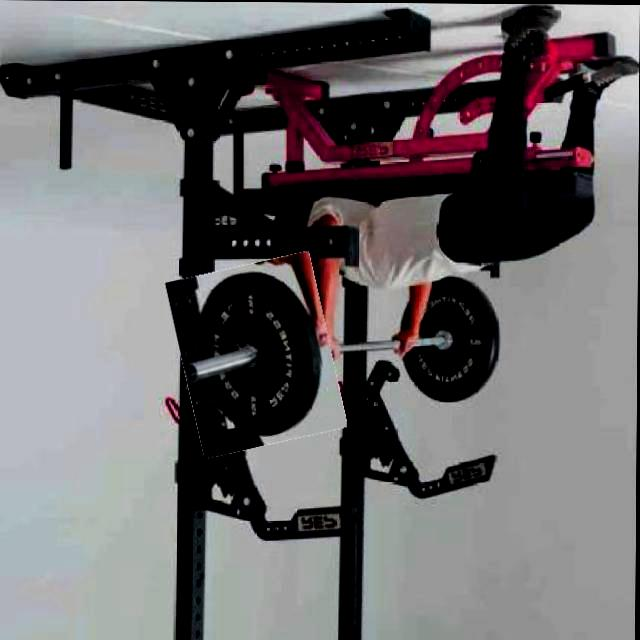barbell: (173, 257, 340, 452)
